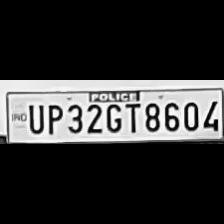0: (180, 98, 198, 132)
2: (84, 100, 104, 134)
3: (64, 100, 82, 134)
4: (200, 97, 220, 131)
6: (160, 100, 180, 132)
8: (142, 100, 160, 132)
G: (104, 101, 122, 133)
P: (44, 101, 62, 135)
T: (122, 101, 140, 133)
U: (25, 102, 43, 134)
